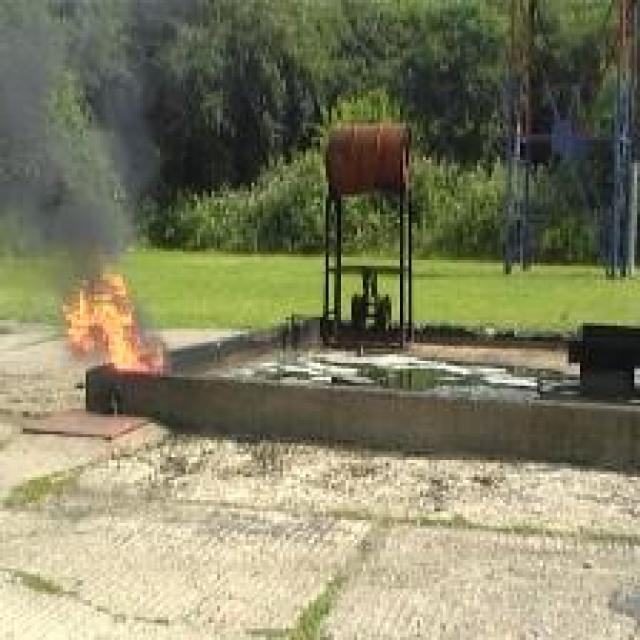Fire: (63, 264, 166, 373)
